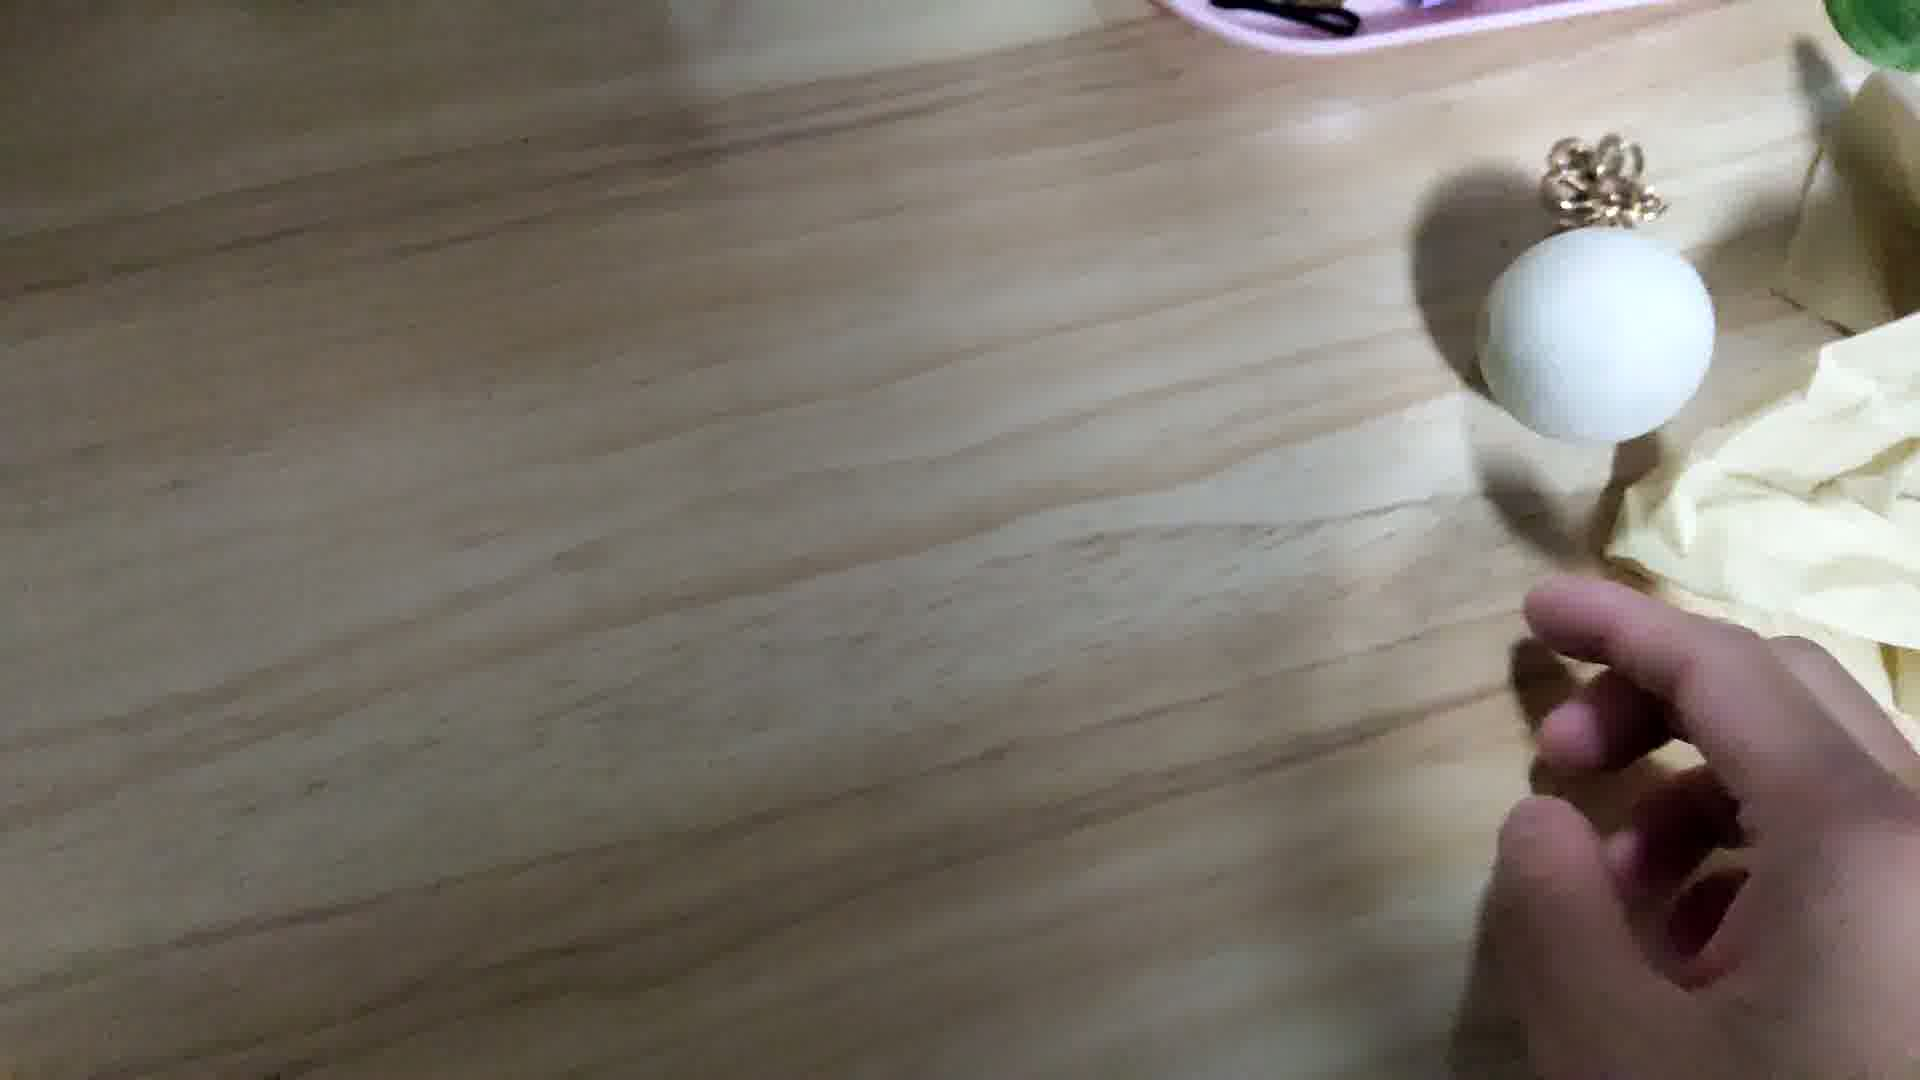Ball: (1485, 229, 1714, 440)
